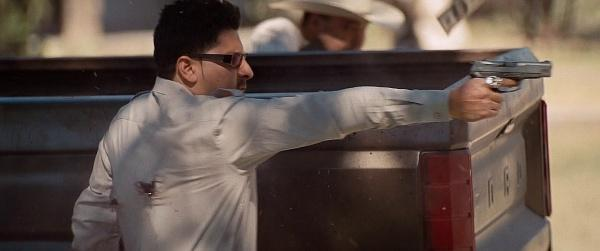Gun: (467, 59, 554, 93)
